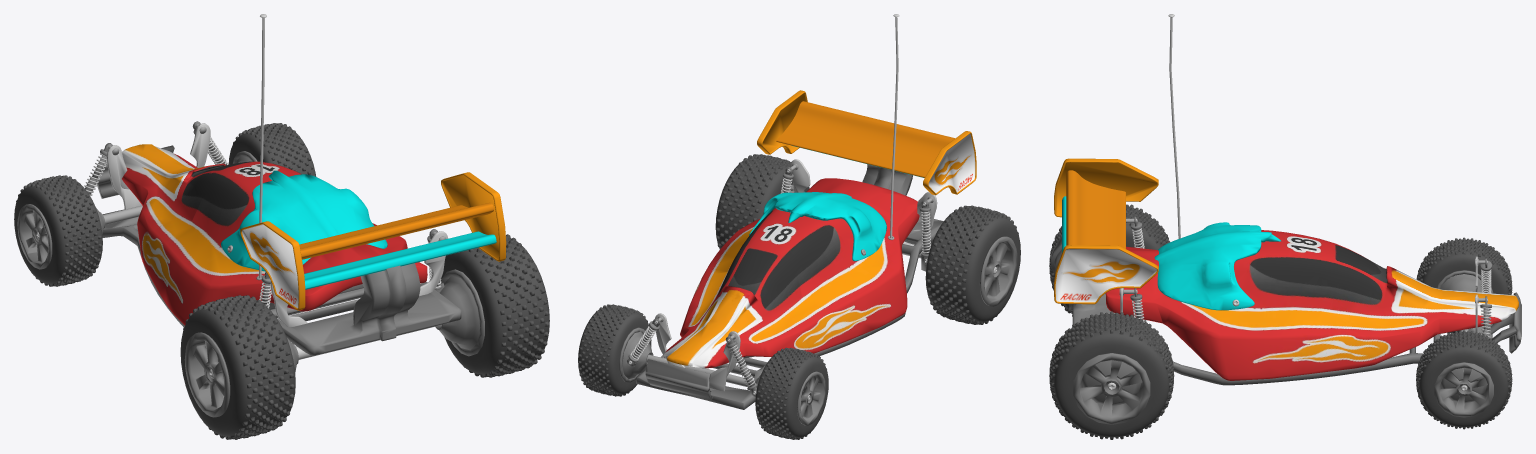
The model's file is car.glb.
The picture shows the model from 3 angles, left to right: view 1: azimuth 30°, elevation 25°; view 2: azimuth 150°, elevation 25°; view 3: azimuth 270°, elevation 25°; orthographic projection. The views are drawn at different scales.
Parts seen in each view (by area): view 1: tire_tread_324.003, Body1, Wheel_Hub.003, loftedSurface2, Screw_Head.003, bevelPolygon4, loftedSurface1, bevelPolygon3, nurbsCylinder3; view 2: Body1, tire_tread_324.003, Wheel_Hub.003, loftedSurface1, loftedSurface2, Screw_Head.003, bevelPolygon4, bevelPolygon3, nurbsCylinder3; view 3: Body1, tire_tread_324.003, Wheel_Hub.003, loftedSurface2, bevelPolygon3, loftedSurface1, bevelPolygon4, Screw_Head.003.
Part boxes in pixels (x1,y1,x2,y2): tire_tread_324.003: (14,123,549,439); Body1: (122,144,427,325); Wheel_Hub.003: (17,121,484,417); loftedSurface2: (221,170,496,289); Screw_Head.003: (36,14,448,378); bevelPolygon4: (240,221,305,310); loftedSurface1: (299,202,493,259); bevelPolygon3: (441,172,506,261); nurbsCylinder3: (103,124,446,280); Body1: (663,178,919,368); tire_tread_324.003: (578,154,1020,439); Wheel_Hub.003: (619,164,1017,425); loftedSurface1: (776,101,954,177); loftedSurface2: (749,145,923,261); Screw_Head.003: (628,14,996,400); bevelPolygon4: (923,131,976,195); bevelPolygon3: (757,90,807,154); nurbsCylinder3: (646,163,933,386); Body1: (1105,230,1518,380); tire_tread_324.003: (1049,204,1512,439); Wheel_Hub.003: (1051,216,1521,424); loftedSurface2: (1062,196,1281,310); bevelPolygon3: (1054,245,1158,304); loftedSurface1: (1066,170,1125,248); bevelPolygon4: (1054,158,1158,217); Screw_Head.003: (1107,14,1491,391).
Size of the model in its own units: 0.1852 by 0.2102 by 0.2699.
9 materials, 3 textured.
